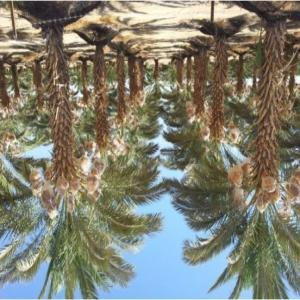palm tree: (0, 1, 164, 298), (158, 0, 300, 299)
